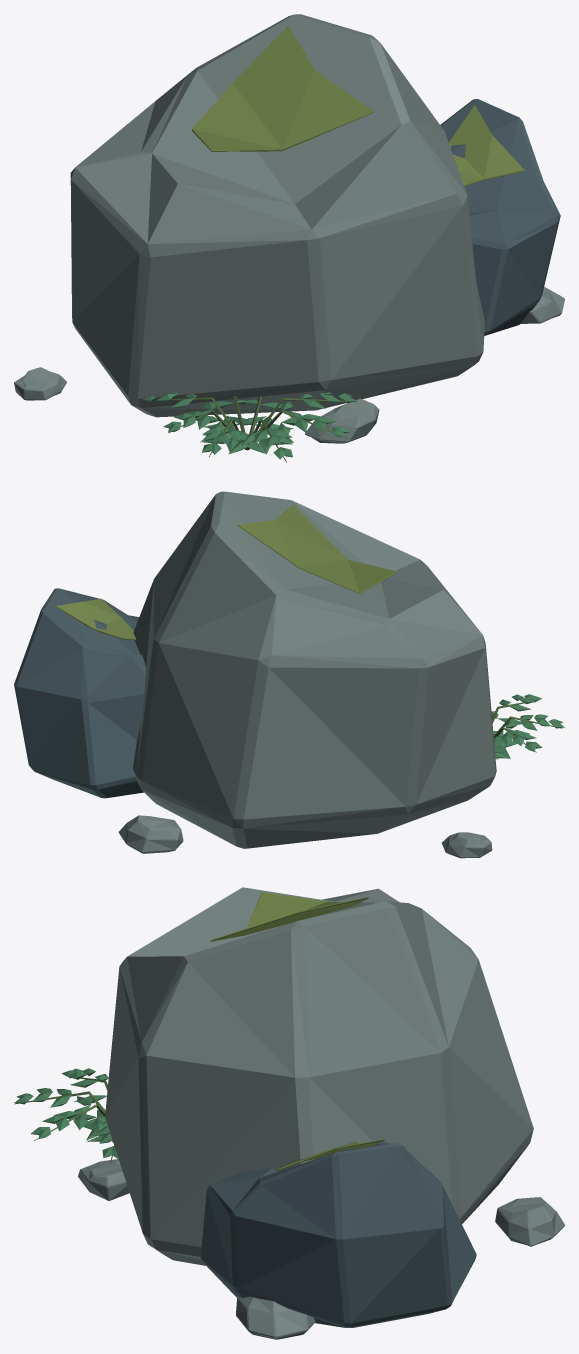
The model's file is rock_boulder.glb.
3 views of the same model, one above another, from view 1: azimuth 30°, elevation 25°; view 2: azimuth 150°, elevation 25°; view 3: azimuth 270°, elevation 25° (orthographic). The views are drawn at different scales.
Parts seen in each view (by area): view 1: rock_boulder; view 2: rock_boulder; view 3: rock_boulder.
Boxes of the visible parts, x1,y1,x2,y2 form: rock_boulder: (14, 14, 564, 462); rock_boulder: (14, 491, 564, 858); rock_boulder: (14, 887, 564, 1339).
Size of the model in its own units: 2.81 by 1.61 by 2.44.
